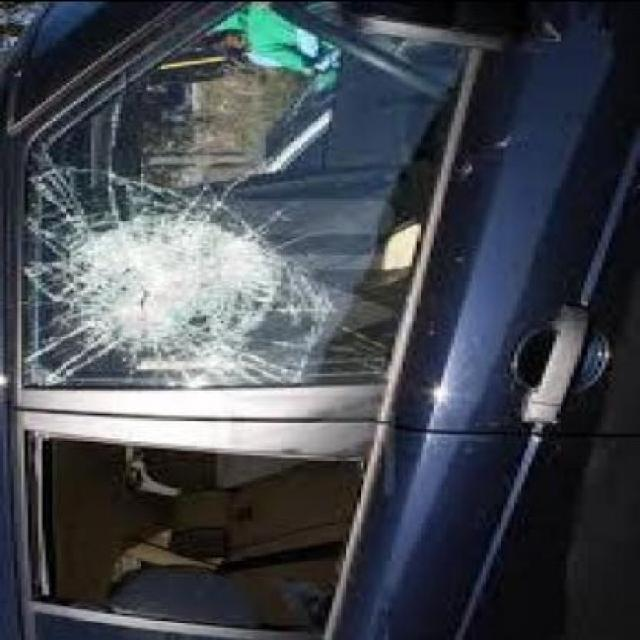damage: (24, 162, 336, 384)
